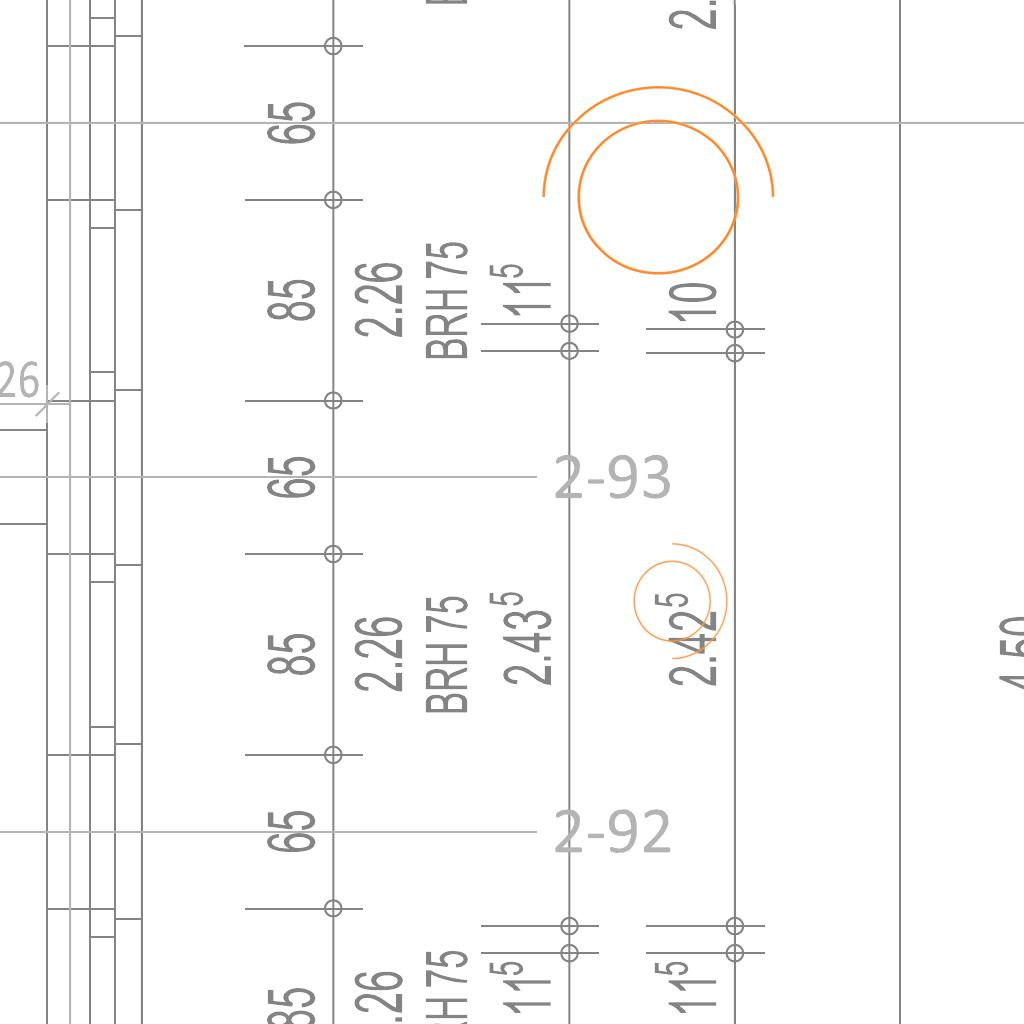Scheinwerfer_fuer_Alarmbeleuchtung: (520, 75, 784, 300), (621, 532, 733, 664)
